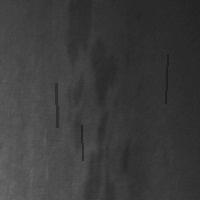inclusion: (84, 37, 119, 199), (60, 1, 93, 159), (163, 52, 169, 105), (54, 81, 59, 129), (79, 123, 84, 162)
